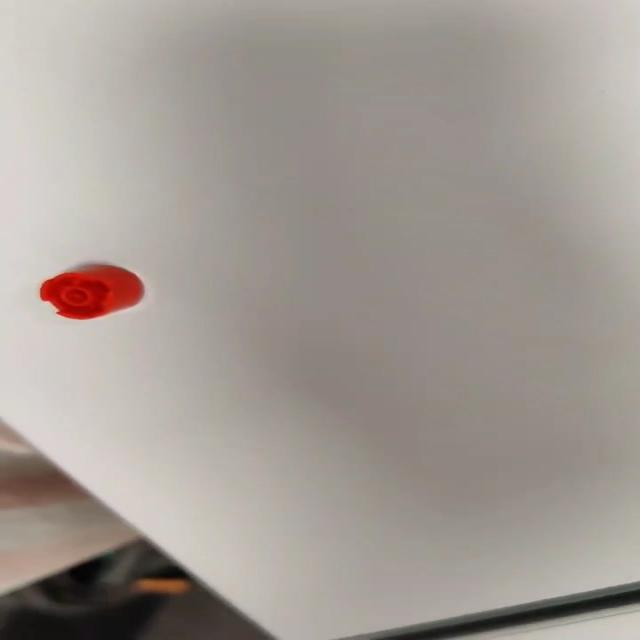S2x2x1: (34, 262, 149, 324)
